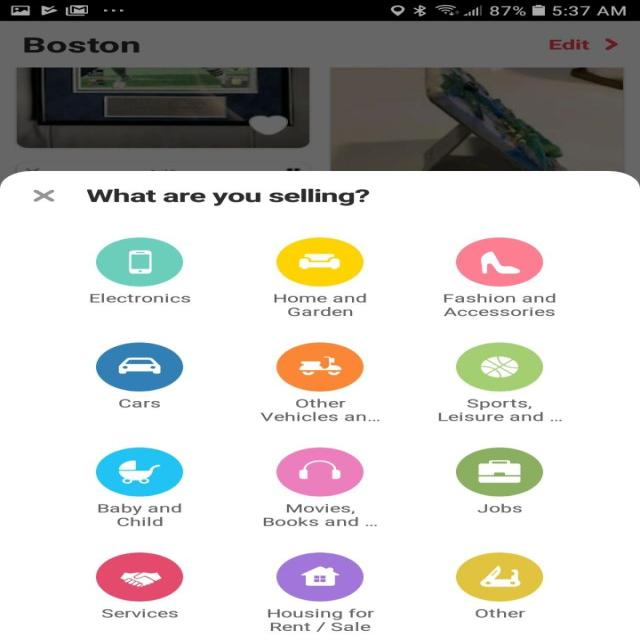Icon: (455, 447, 543, 497), (276, 552, 364, 602), (33, 190, 55, 202)
Image: (95, 446, 184, 496), (95, 237, 183, 287), (276, 237, 364, 287), (455, 237, 543, 287), (276, 447, 364, 497), (455, 552, 543, 602), (95, 342, 183, 391), (276, 342, 364, 391), (455, 342, 543, 391), (95, 552, 183, 601)
Modal: (0, 170, 639, 640)
Text: (86, 188, 369, 206), (438, 398, 562, 421), (260, 398, 380, 421), (262, 503, 377, 526), (442, 293, 556, 316), (266, 608, 374, 632), (272, 293, 366, 316), (98, 503, 182, 526), (90, 293, 192, 303), (101, 608, 178, 618), (474, 608, 525, 618), (476, 503, 522, 513), (118, 398, 160, 408)
